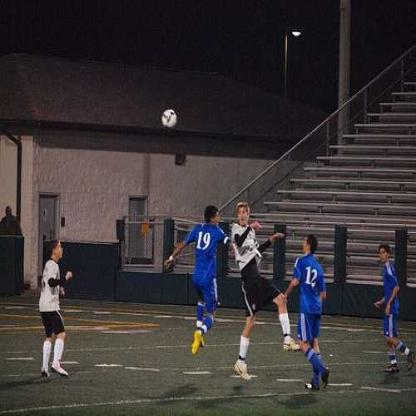ball: (162, 109, 177, 127)
